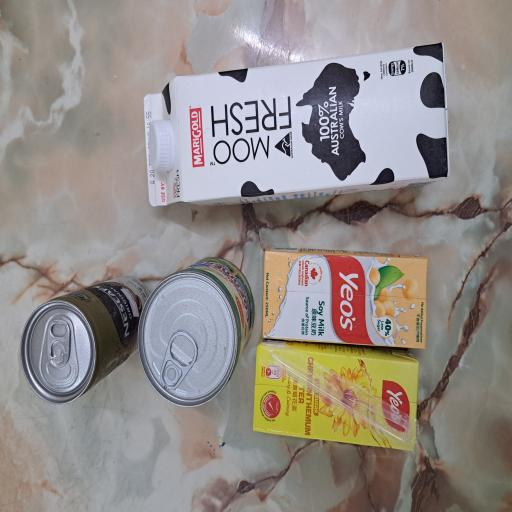can: (79, 185, 191, 339), (81, 28, 179, 196)
drink carton: (227, 189, 350, 512), (44, 337, 128, 512), (123, 346, 198, 512)
plastic bottle: (252, 196, 297, 236)
pop tab: (92, 212, 138, 268), (110, 61, 148, 94)
